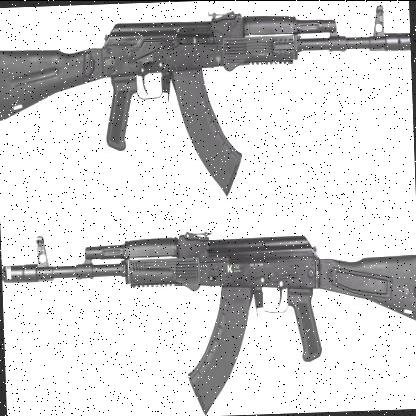rifle: (0, 0, 416, 217), (2, 221, 416, 415)
